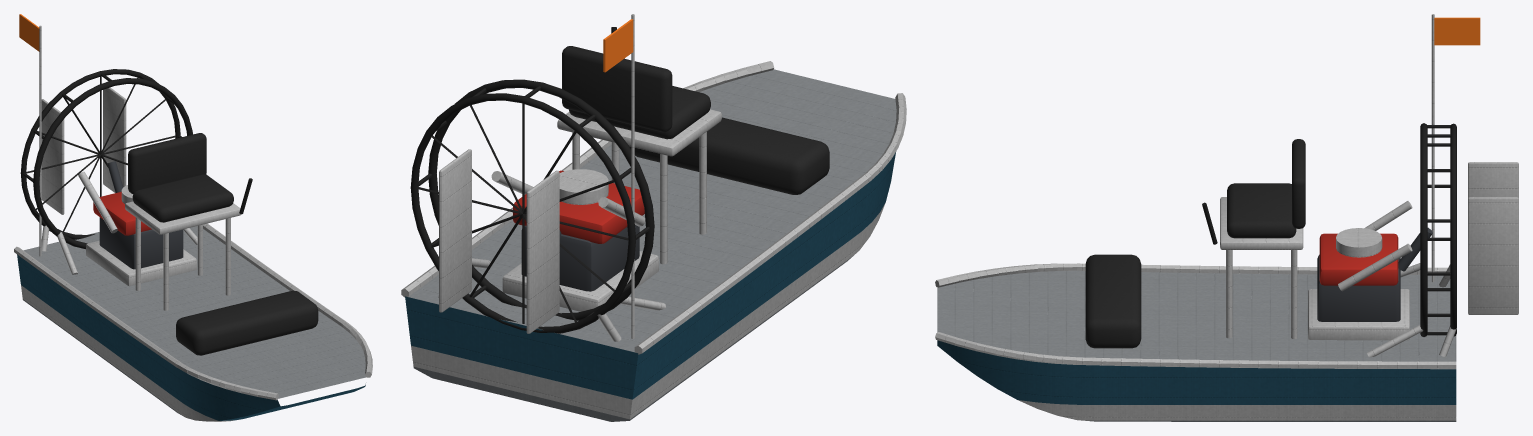
Rendered from airboat-1.glb.
3 renders of one model, left to right at view 1: azimuth 30°, elevation 25°; view 2: azimuth 150°, elevation 25°; view 3: azimuth 270°, elevation 25°, orthographic. The views are drawn at different scales.
Parts seen in each view (by area): view 1: airboat-1; view 2: airboat-1; view 3: airboat-1.
Boxes of the visible parts, x1,y1,x2,y2 form: airboat-1: (14,14,372,421); airboat-1: (401,14,906,421); airboat-1: (935,14,1518,421).
Size of the model in its own units: 2.48 by 3.92 by 6.3.
Materials: 9 (5 with a texture image).
